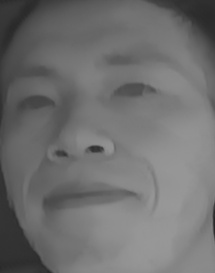eye: (109, 71, 165, 106), (13, 86, 61, 119)
mouth: (34, 171, 140, 221)
